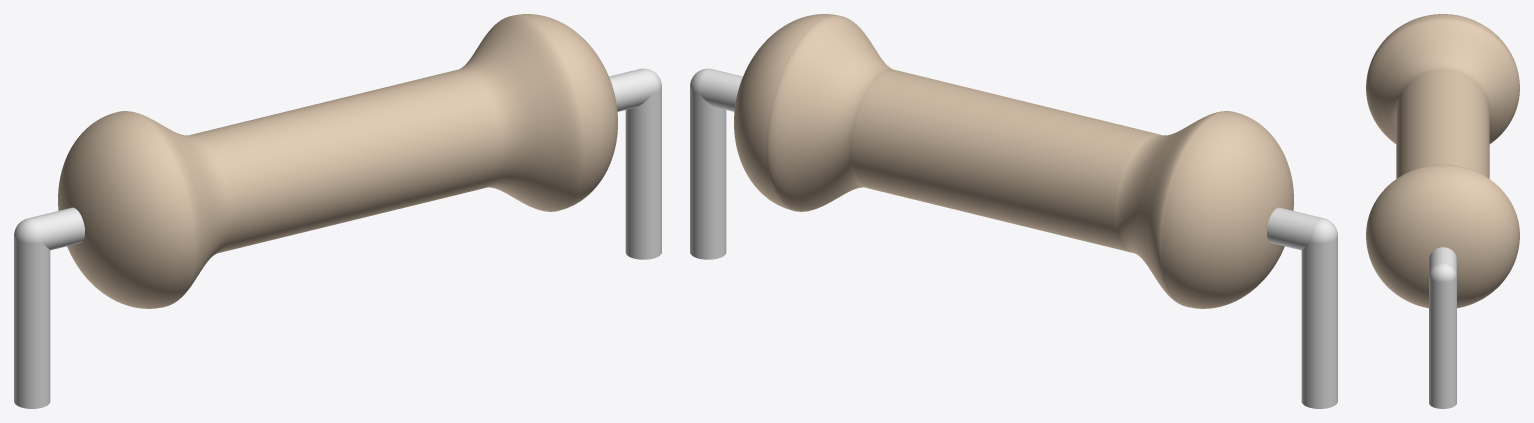
File: 1_2W_Axial_res.obj
3 renders of one model, left to right at view 1: azimuth 30°, elevation 25°; view 2: azimuth 150°, elevation 25°; view 3: azimuth 270°, elevation 25°, orthographic. The views are drawn at different scales.
Parts seen in each view (by area): view 1: mesh6, mesh8, mesh5, mesh7, mesh11, mesh4, mesh1, mesh9, mesh3; view 2: mesh6, mesh8, mesh5, mesh7, mesh11, mesh4, mesh1, mesh9, mesh3; view 3: mesh4, mesh7, mesh6, mesh1, mesh8, mesh3, mesh2, mesh5.
Boxes of the visible parts, bbox=[...] form: mesh6: bbox=[194, 70, 499, 251]; mesh8: bbox=[58, 111, 190, 308]; mesh5: bbox=[458, 15, 585, 211]; mesh7: bbox=[118, 111, 236, 306]; mesh11: bbox=[14, 237, 50, 408]; mesh4: bbox=[515, 14, 617, 209]; mesh1: bbox=[625, 88, 661, 259]; mesh9: bbox=[29, 207, 84, 250]; mesh3: bbox=[609, 69, 652, 111]; mesh6: bbox=[852, 70, 1157, 251]; mesh8: bbox=[1161, 111, 1293, 308]; mesh5: bbox=[766, 15, 893, 211]; mesh7: bbox=[1115, 111, 1233, 306]; mesh11: bbox=[1301, 237, 1337, 408]; mesh4: bbox=[734, 14, 836, 209]; mesh1: bbox=[690, 88, 726, 259]; mesh9: bbox=[1267, 207, 1322, 250]; mesh3: bbox=[699, 69, 742, 111]; mesh4: bbox=[1366, 166, 1519, 308]; mesh7: bbox=[1366, 18, 1519, 143]; mesh6: bbox=[1396, 70, 1489, 178]; mesh1: bbox=[1429, 277, 1456, 408]; mesh8: bbox=[1367, 14, 1518, 74]; mesh3: bbox=[1429, 247, 1456, 273]; mesh2: bbox=[1429, 263, 1456, 282]; mesh5: bbox=[1366, 164, 1519, 231].
Size of the model in its own units: 0.0122 by 0.00465 by 0.0033.
